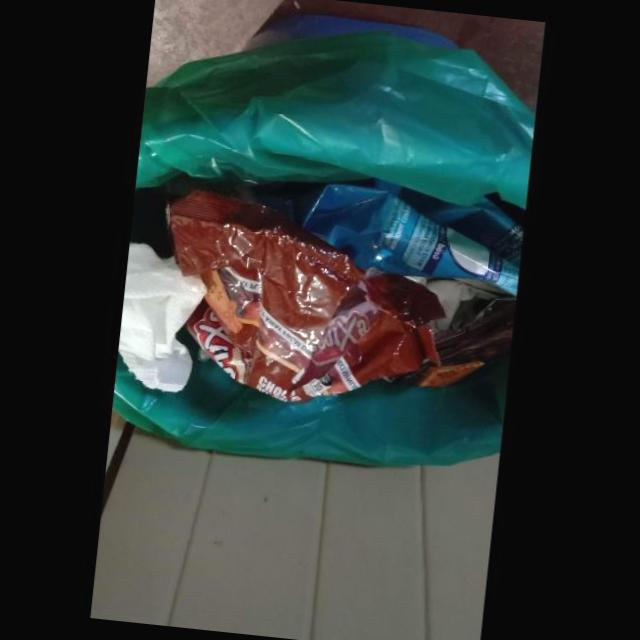bao_bi_thuc_pham: (165, 190, 486, 406), (304, 181, 522, 300)
tui_ni_long: (119, 243, 208, 392)
